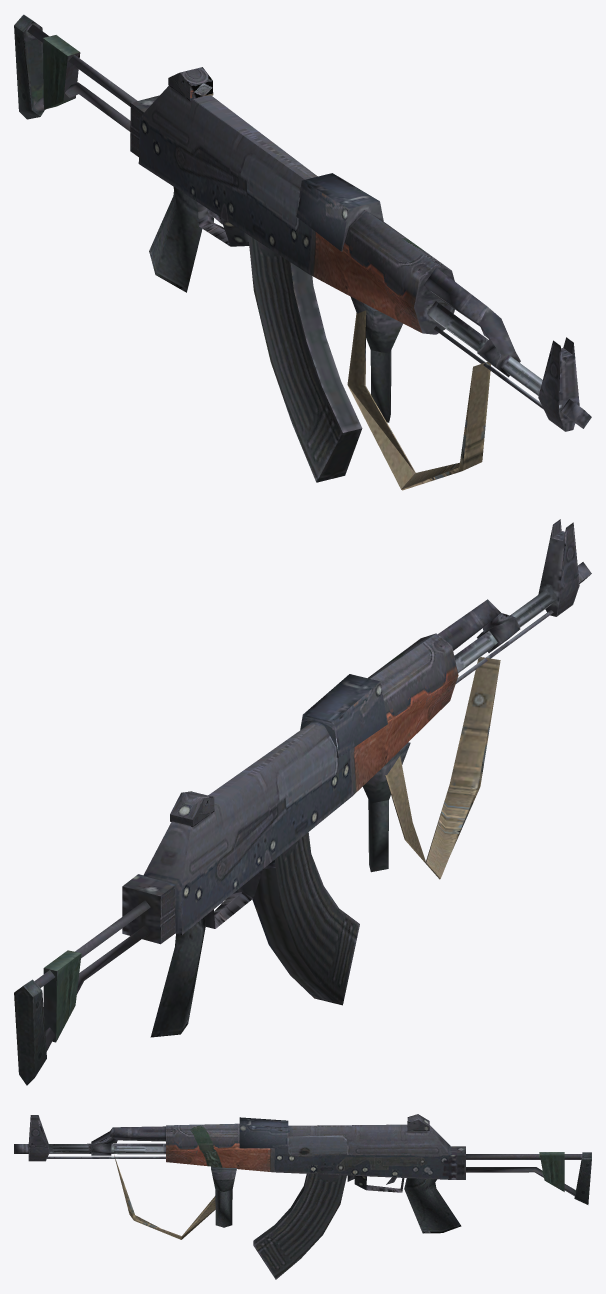
The model's file is Assault_Rifle_bq_qs_01_LOD2_Body_LOD_(001027).glb.
3 views of the same model, one above another, from view 1: azimuth 30°, elevation 25°; view 2: azimuth 150°, elevation 25°; view 3: azimuth 270°, elevation 25° (orthographic). The views are drawn at different scales.
Visible parts, largest first — view 1: bq_qs_01_LOD2; view 2: bq_qs_01_LOD2; view 3: bq_qs_01_LOD2.
Boxes of the visible parts, x1,y1,x2,y2 form: bq_qs_01_LOD2: (14,14,591,490); bq_qs_01_LOD2: (14,519,591,1085); bq_qs_01_LOD2: (14,1114,591,1279).
Bounding box in the file's own units: 0.0895 × 0.4924 × 1.62.
1 material, 1 textured.
